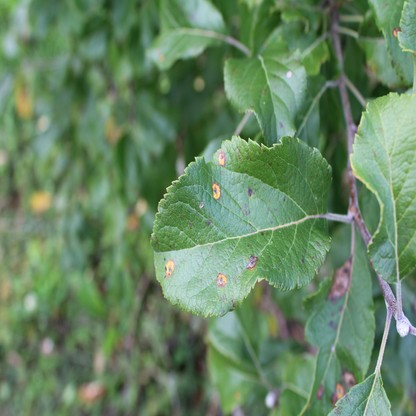rust: (328, 256, 353, 299), (331, 370, 355, 404), (247, 254, 257, 268), (165, 260, 173, 276), (212, 183, 220, 199), (217, 272, 226, 285), (218, 151, 225, 166), (392, 27, 400, 37), (317, 385, 322, 398)
